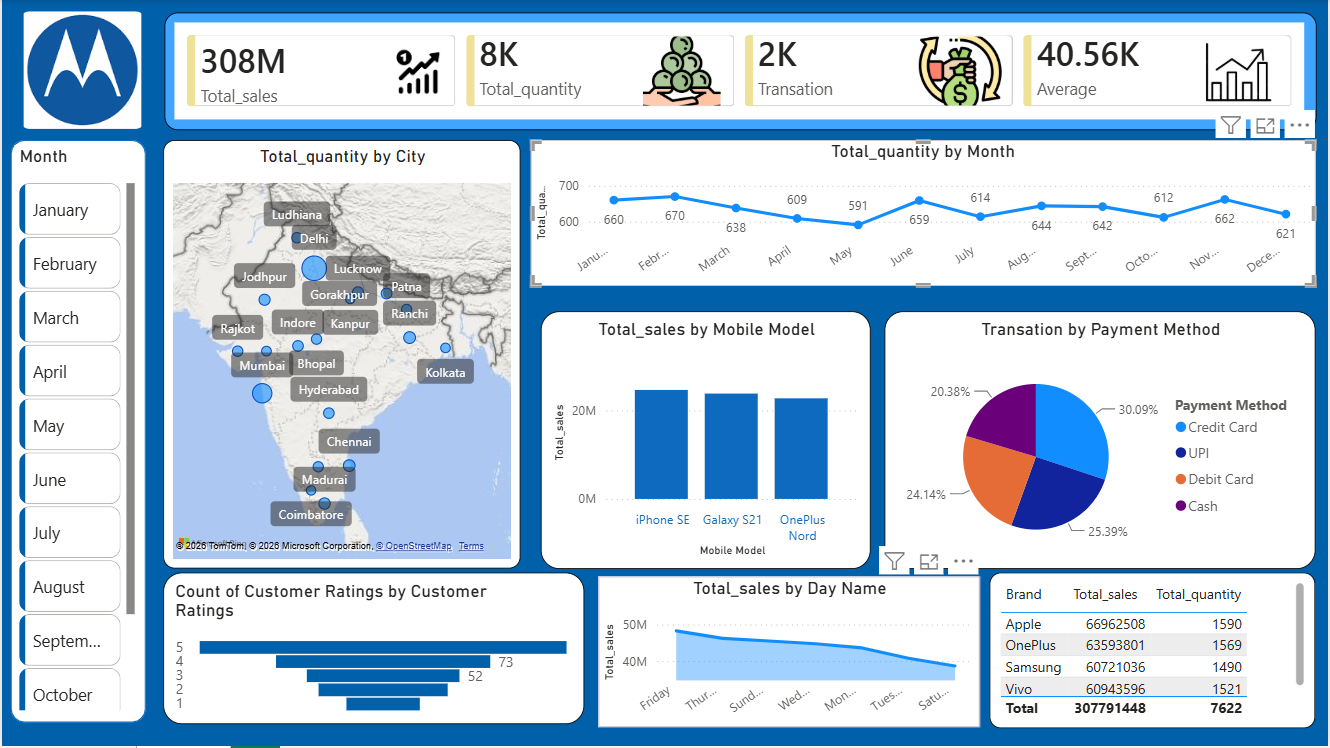

Layout of this report page (visuals, bound fields, positions):
{"tool":"powerbi","page":{"name":"Page 1","canvas":[1280,720],"ordinal":0},"visuals":[{"type":"image","box":[16.9,10.9,121.9,113.4],"z":0},{"type":"shape","box":[8.4,135.1,130.3,562.2],"z":1000},{"type":"advancedSlicerVisual","fields":{"Values":["Sheet1.Date.Variation.Date Hierarchy.Month"]},"box":[12.5,140,121.9,551.3],"z":2000},{"type":"cardVisual","fields":{"Data":["Sheet1.Total_sales","Sheet1.Total_quantity","Sheet1.Transation","Sheet1.Average"]},"box":[156.2,12.5,1112.3,113.4],"z":3000},{"type":"map","fields":{"Category":["Sheet1.City"],"Size":["Sheet1.Total_quantity"]},"box":[155.6,135.1,345,413.8],"z":4000},{"type":"lineChart","fields":{"Y":["Sheet1.Total_quantity"],"Category":["Sheet1.Date.Variation.Date Hierarchy.Month"]},"box":[510.3,135.1,757.6,141.2],"z":5000},{"type":"clusteredColumnChart","fields":{"Category":["Sheet1.Mobile Model"],"Y":["Sheet1.Total_sales"]},"box":[520,300,318.8,248.8],"z":6000},{"type":"pieChart","fields":{"Category":["Sheet1.Payment Method"],"Y":["Sheet1.Transation"]},"box":[851.2,300,416.2,248.8],"z":7000},{"type":"funnel","fields":{"Category":["Sheet1.Customer Ratings"],"Y":["CountNonNull(Sheet1.Customer Ratings)"]},"box":[155.7,552.9,406.2,146.2],"z":8000},{"type":"areaChart","fields":{"Category":["Sheet1.Day Name"],"Y":["Sheet1.Total_sales"]},"box":[575,556.2,368.6,145.7],"z":8001},{"type":"tableEx","fields":{"Values":["Sheet1.Brand","Sheet1.Total_sales","Sheet1.Total_quantity"]},"box":[953,553,314,150],"z":8002}]}

Visuals, with their boxes in screenshot pixels (x1, y1, x2, y2), scaled from the page's 1280x720 canvas onto the 1330x748 screenshot:
image: pyautogui.locateOnScreen(18, 11, 144, 129)
shape: pyautogui.locateOnScreen(9, 140, 144, 724)
advancedSlicerVisual - Sheet1.Date.Variation.Date Hierarchy.Month: pyautogui.locateOnScreen(13, 145, 140, 718)
cardVisual - Sheet1.Total_sales x Sheet1.Total_quantity: pyautogui.locateOnScreen(162, 13, 1318, 131)
map - Sheet1.City x Sheet1.Total_quantity: pyautogui.locateOnScreen(162, 140, 520, 570)
lineChart - Sheet1.Total_quantity x Sheet1.Date.Variation.Date Hierarchy.Month: pyautogui.locateOnScreen(530, 140, 1317, 287)
clusteredColumnChart - Sheet1.Mobile Model x Sheet1.Total_sales: pyautogui.locateOnScreen(540, 312, 872, 570)
pieChart - Sheet1.Payment Method x Sheet1.Transation: pyautogui.locateOnScreen(884, 312, 1317, 570)
funnel - Sheet1.Customer Ratings x CountNonNull(Sheet1.Customer Ratings): pyautogui.locateOnScreen(162, 574, 584, 726)
areaChart - Sheet1.Day Name x Sheet1.Total_sales: pyautogui.locateOnScreen(597, 578, 980, 729)
tableEx - Sheet1.Brand x Sheet1.Total_sales: pyautogui.locateOnScreen(990, 575, 1316, 730)
